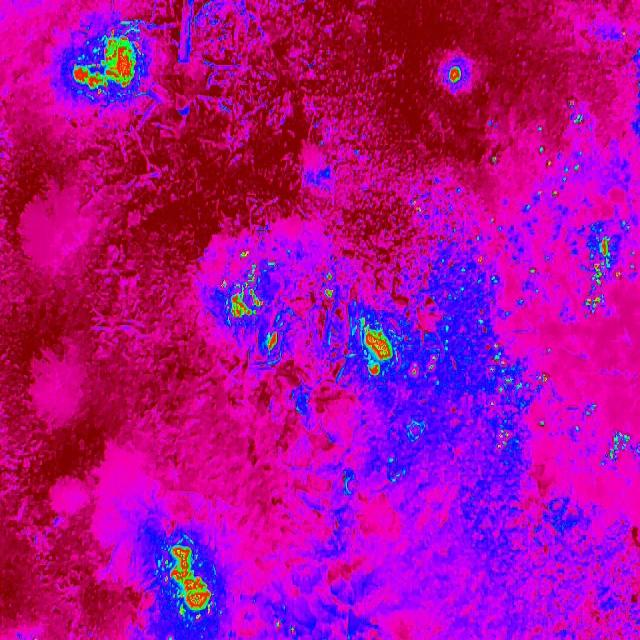fire: (404, 273, 559, 457), (486, 121, 582, 211), (69, 31, 142, 98), (160, 541, 210, 621), (216, 248, 267, 324), (352, 320, 402, 380), (581, 232, 614, 317), (595, 422, 640, 470), (444, 60, 466, 88), (262, 330, 284, 358), (321, 273, 334, 299)
